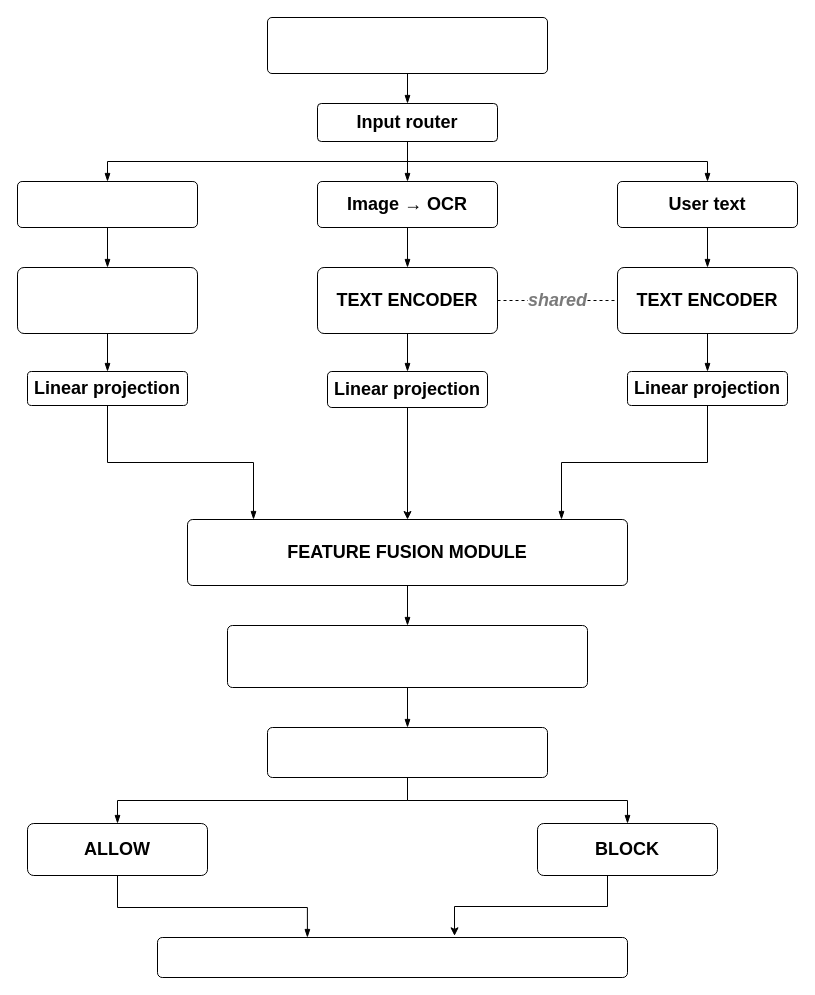
This 815x995 diagram has some shape labels left out. Each missing label, with the centre of its shape:
CALIBRATED THRESHOLDS: the point at 407,752
CLASSIFICATION HEAD: the point at 407,656
PROTECTED VLM: the point at 392,957
Raw image pixels: the point at 107,204
USER REQUEST text + image: the point at 407,45
VISION ENCODER: the point at 107,300
